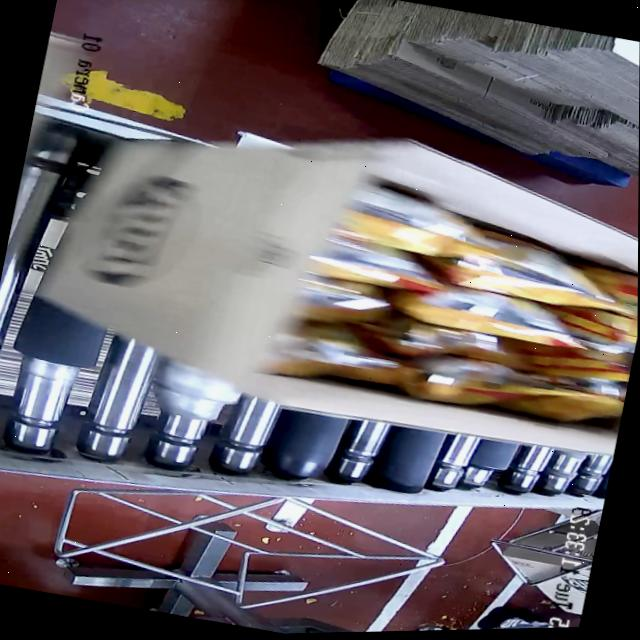FRENCH_CHEESE: (280, 166, 639, 453)
